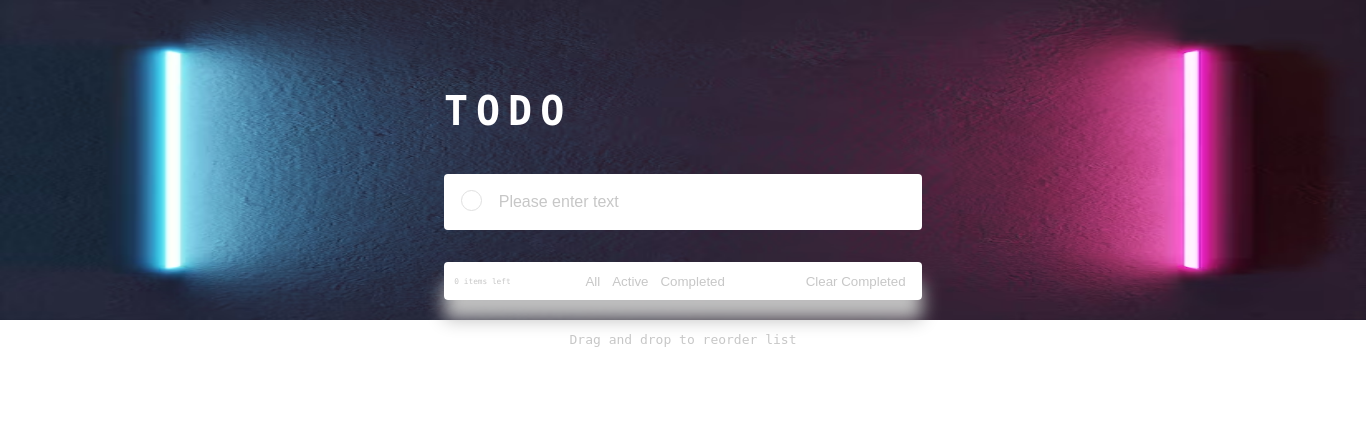
todo application › create new todo succesfully
This screenshot has width=1366, height=421.
Step 1. Type "Wash dishes" into the field with placeholder "Please enter text" → (703, 202), box 497,192 -> 909,212
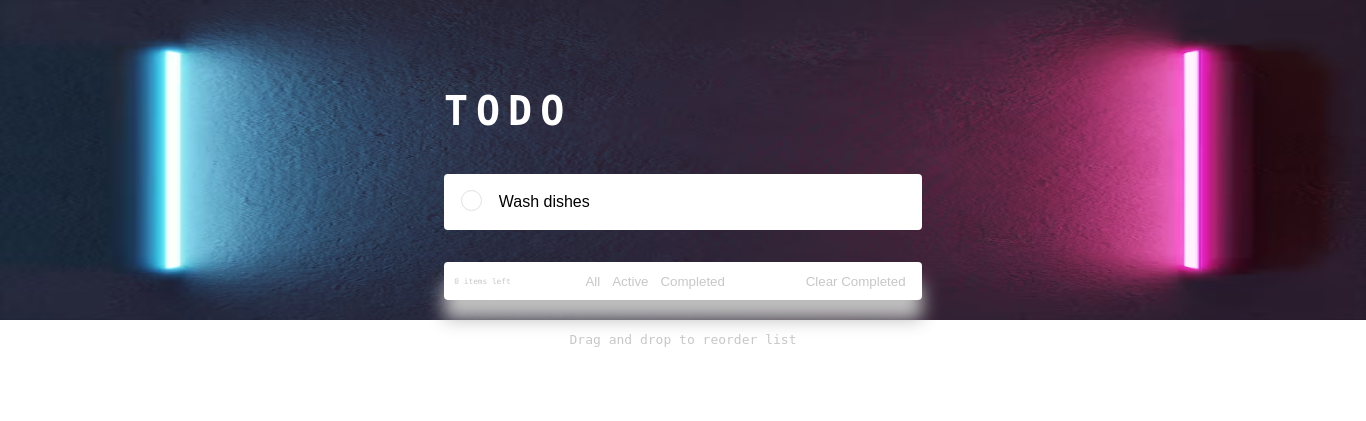
Step 2. Press Enter in the field, box 497,192 -> 909,212
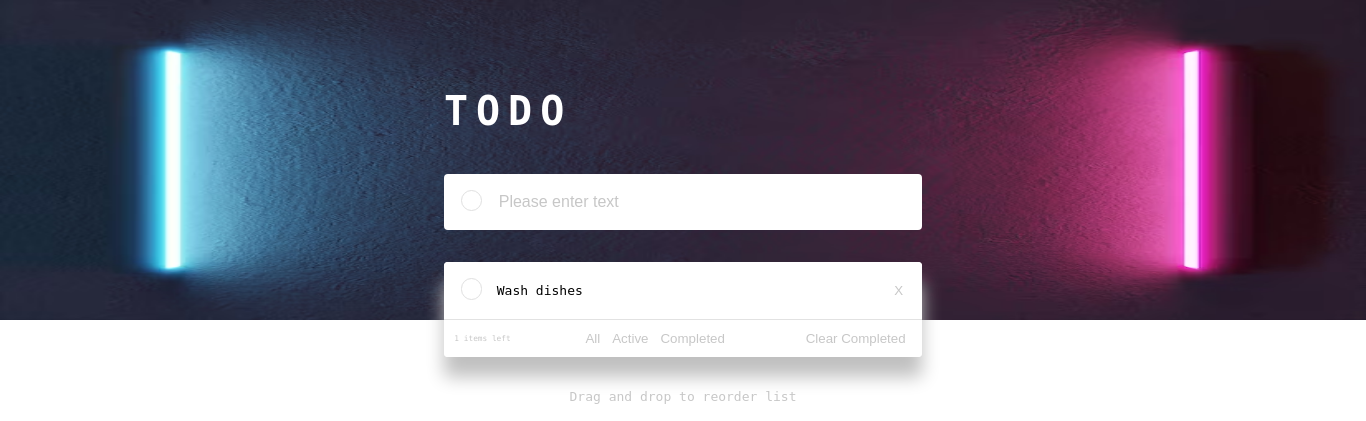
Now the text "1 items left" is shown, box 454,334 -> 511,343
